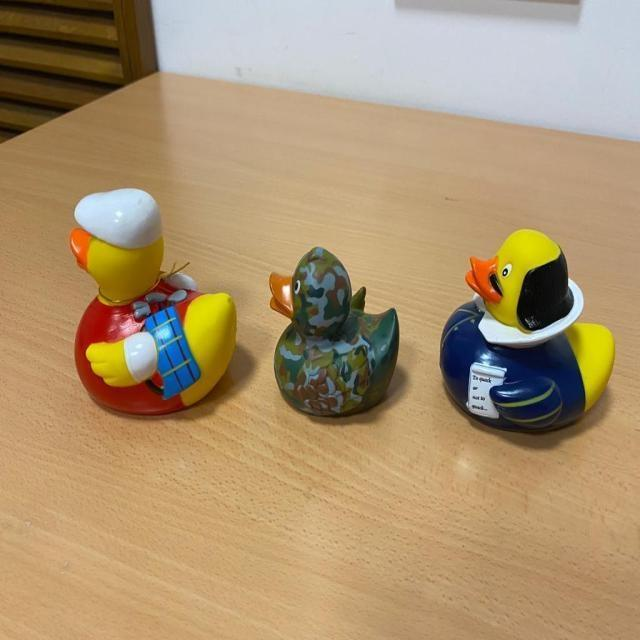rubber-duck: (69, 187, 234, 412), (439, 228, 612, 429), (268, 246, 397, 414)
